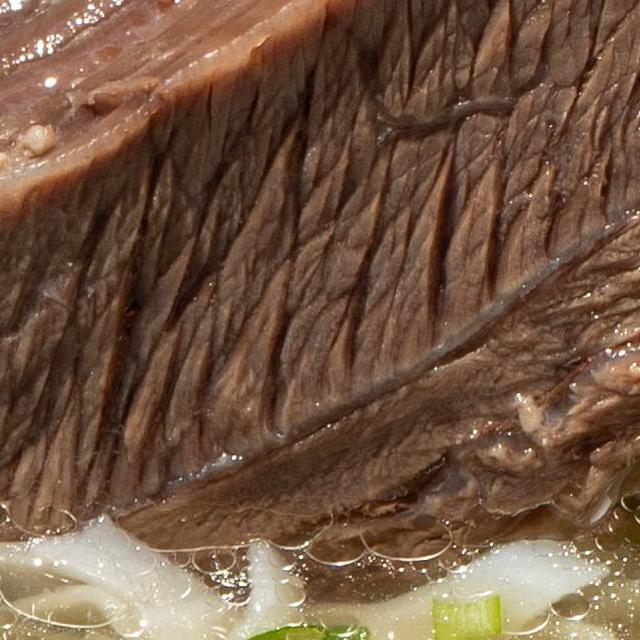banh pho: (0, 474, 640, 640)
pho bo: (0, 0, 640, 640)
thit bo: (0, 0, 640, 624)
